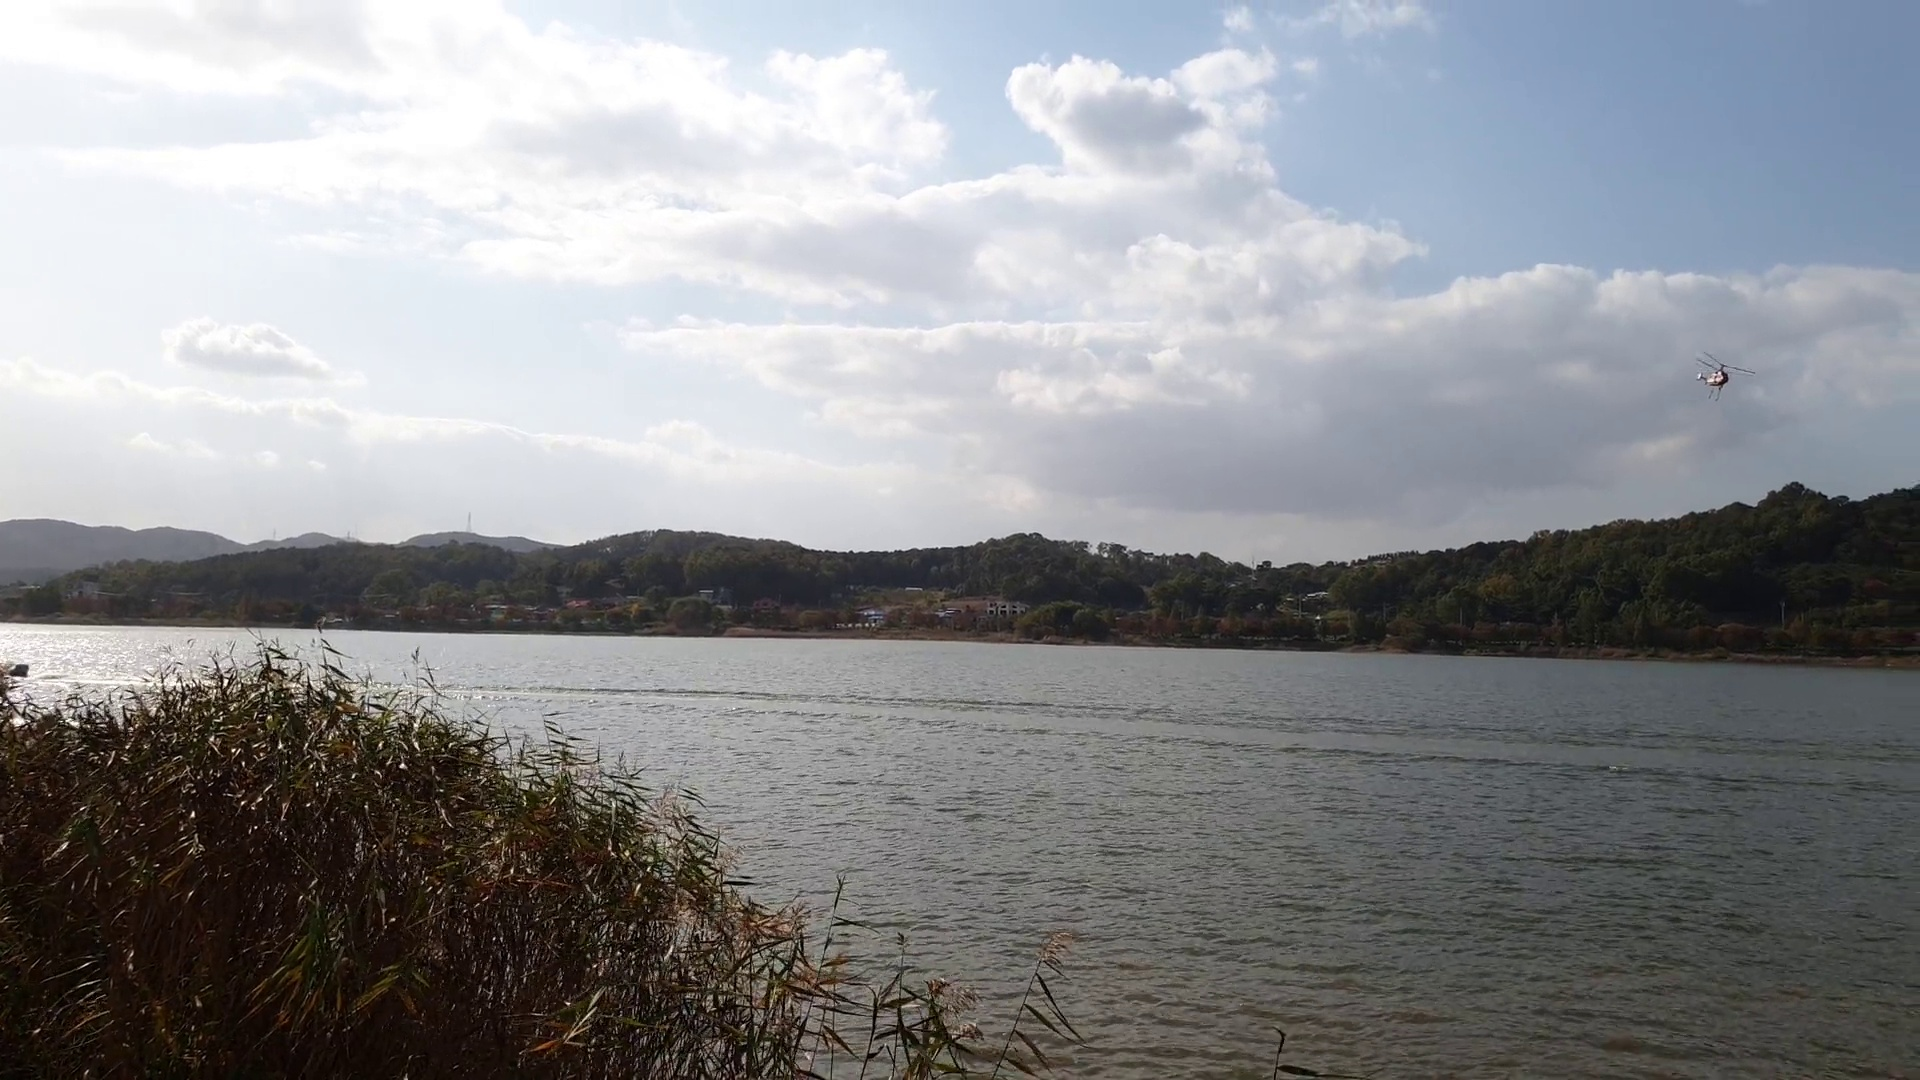heli: (1695, 351, 1756, 389)
